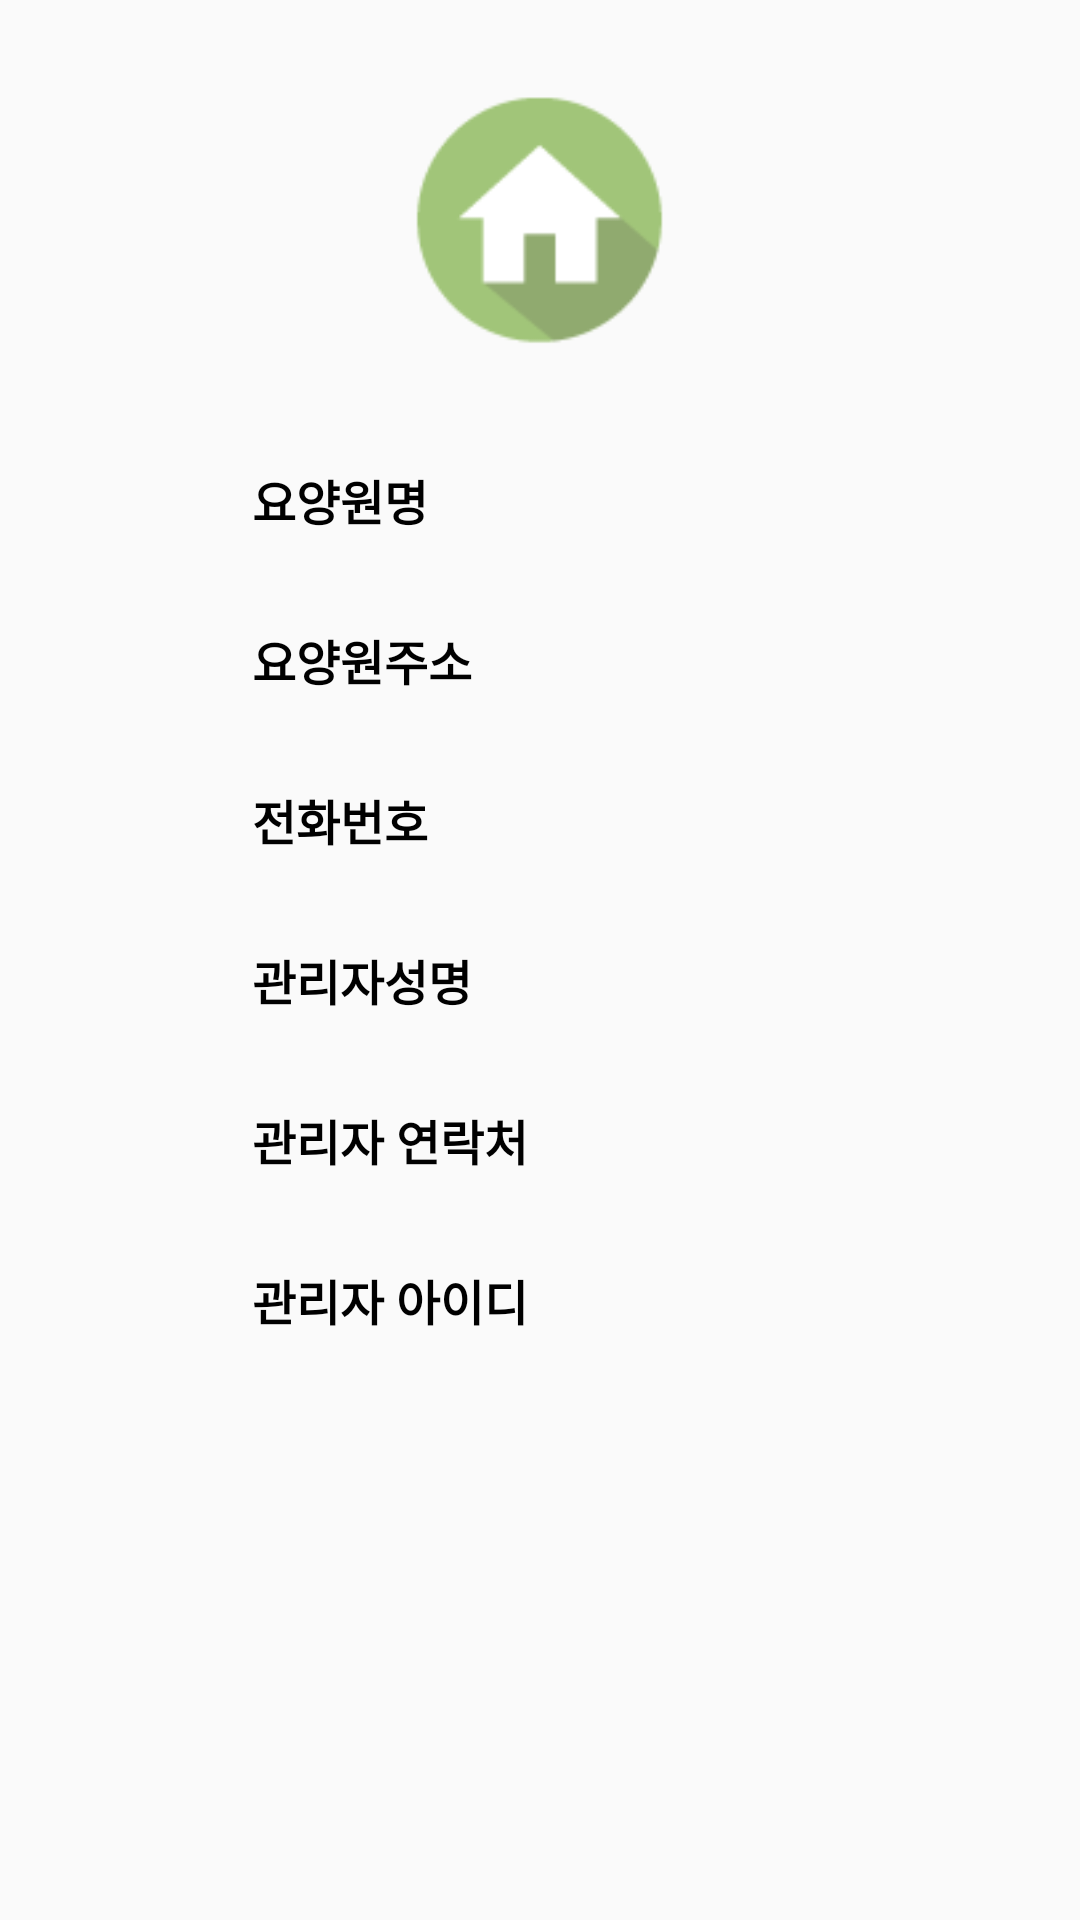

Icon click points for this 1080px x 1920px phone screenshot, format point (x, y):
home: point (539, 220)
